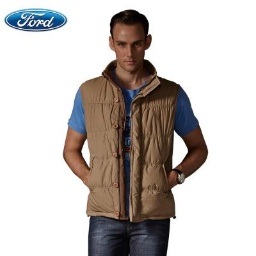face: (105, 10, 155, 73)
